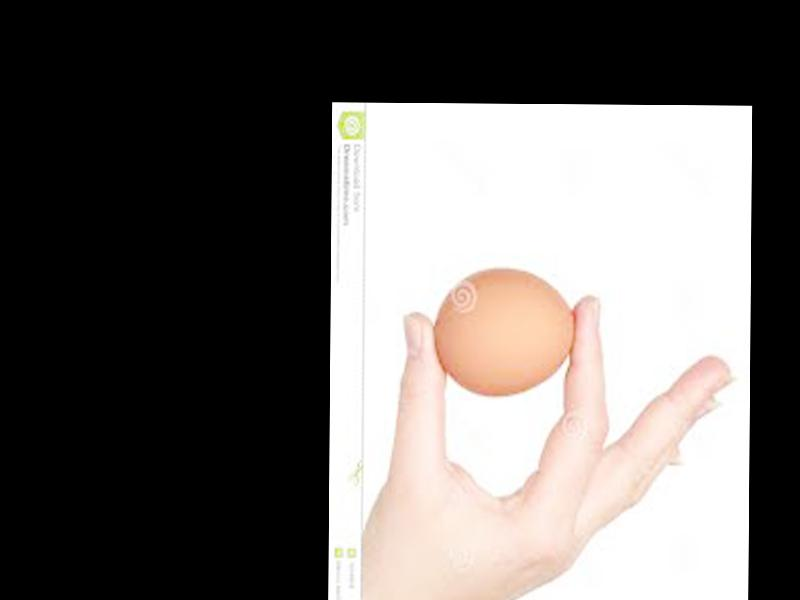Eggs: (432, 266, 575, 399)
